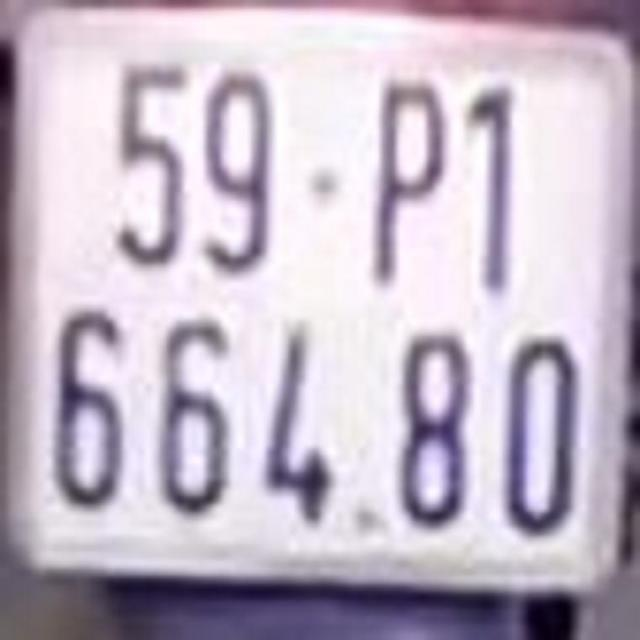0: (503, 324, 581, 534)
1: (463, 78, 525, 292)
4: (260, 314, 334, 524)
5: (110, 56, 190, 267)
6: (154, 307, 237, 511), (56, 300, 124, 503)
8: (394, 322, 471, 525)
9: (197, 57, 278, 274)
P: (367, 71, 451, 288)
